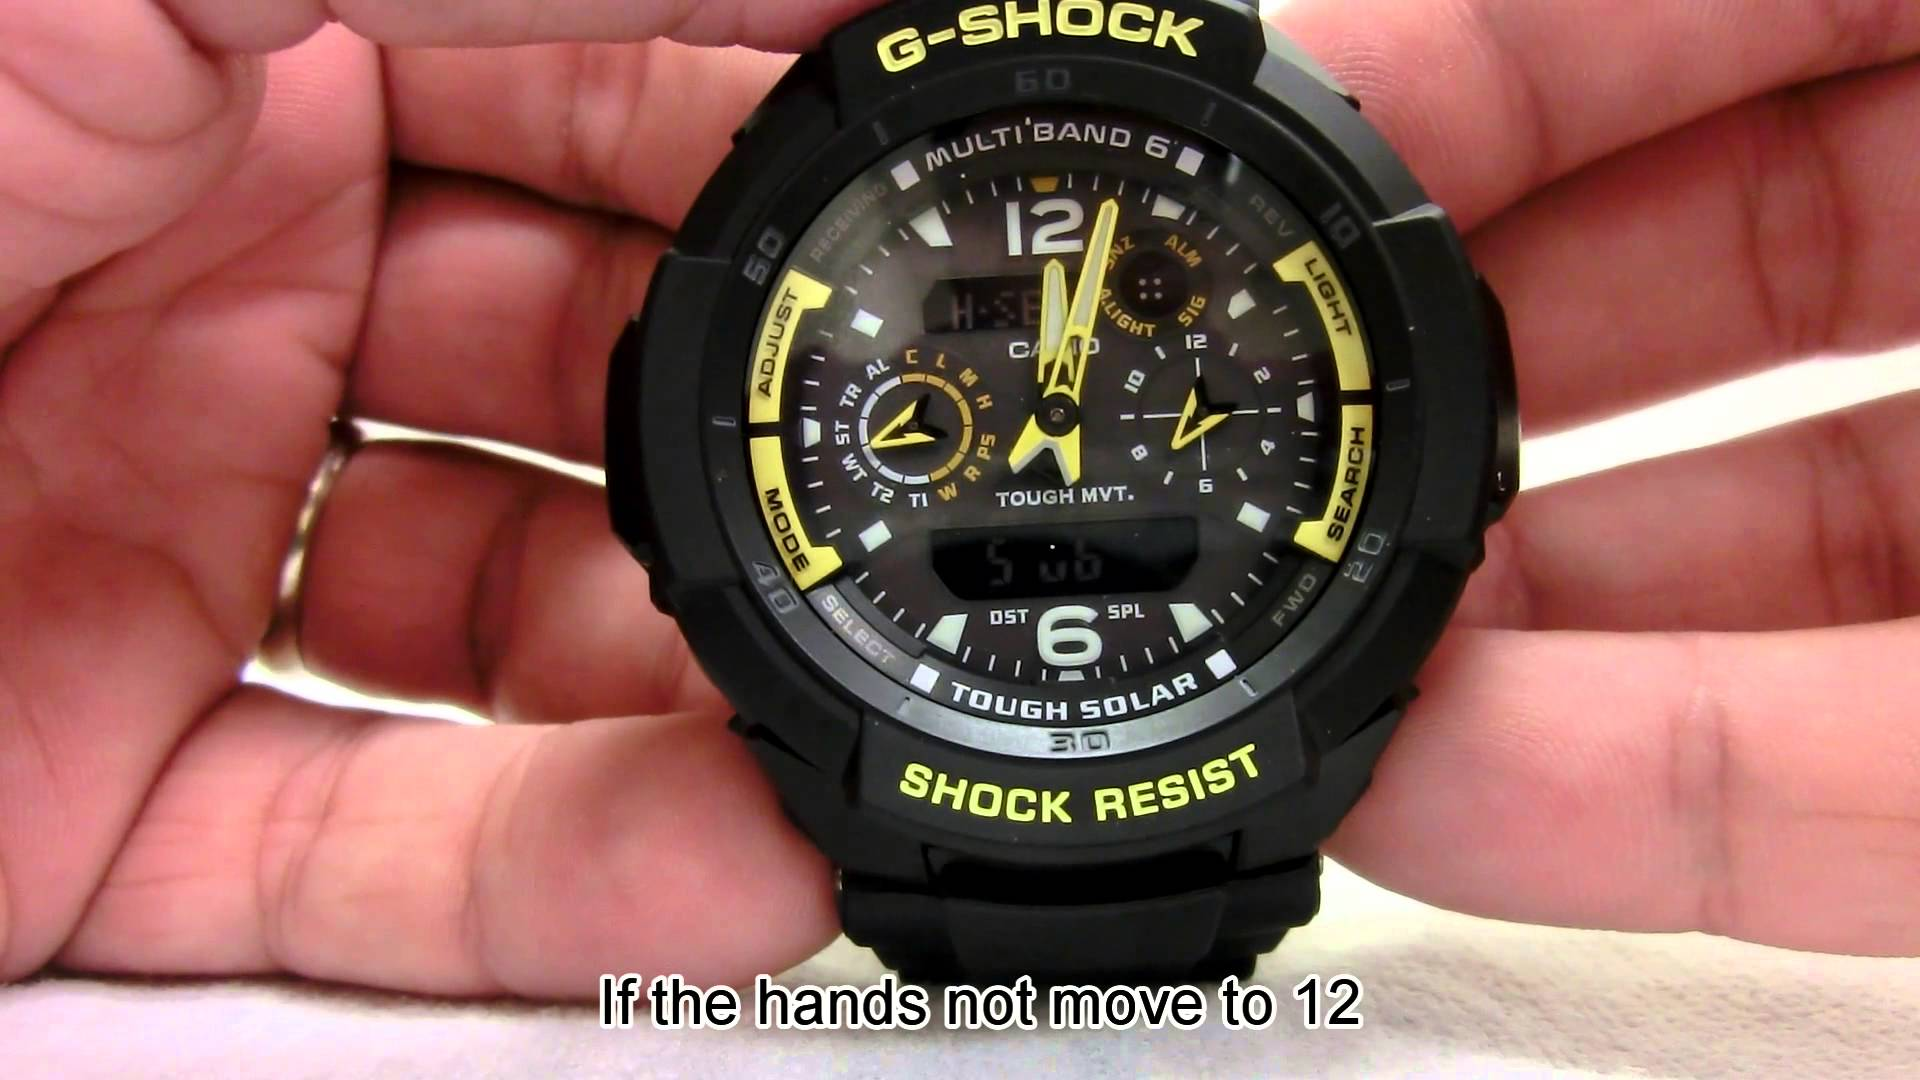clock: (715, 105, 1428, 769)
